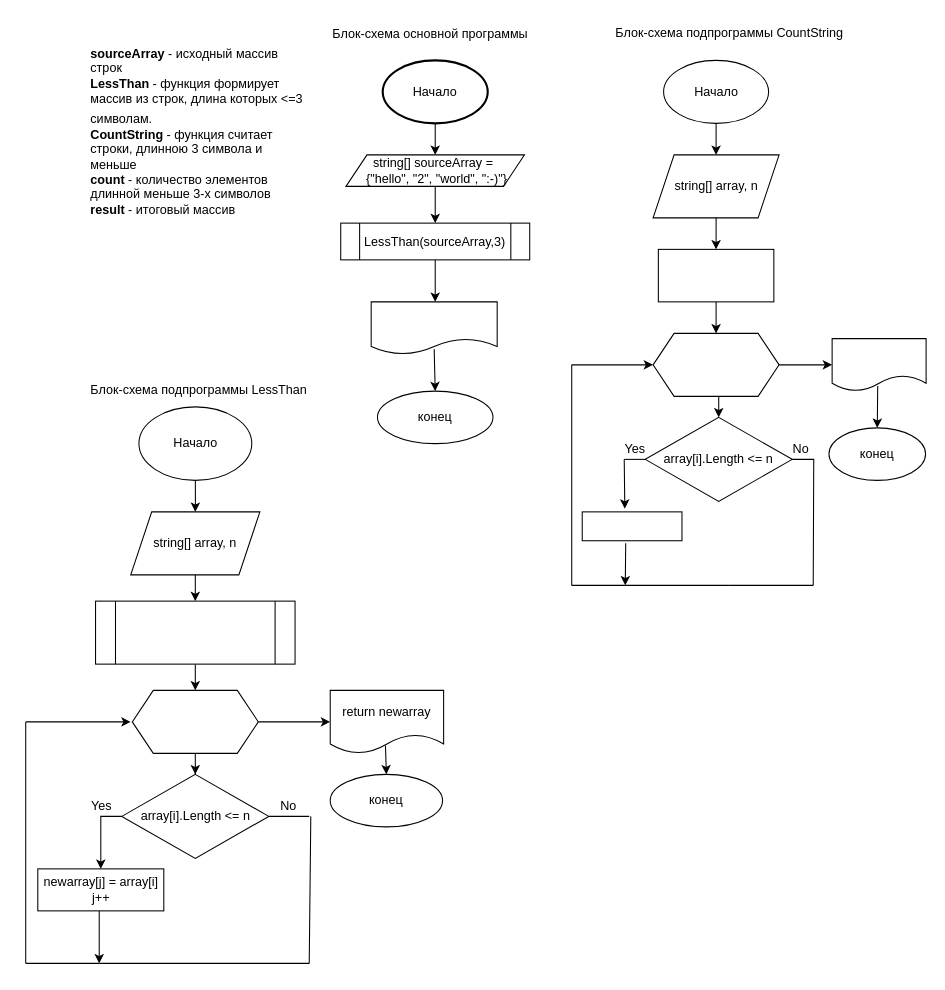
This 945x990 diagram has some shape labels left out. Each missing label, with the box of its shape:
count = 0: (657, 248, 774, 302)
count++: (581, 511, 682, 541)
i=0, array.Length,1: (652, 332, 779, 396)
i=0, j = 0; array.Length,1: (131, 689, 258, 753)
result: (370, 301, 497, 354)
return count: (831, 338, 926, 391)
string[] newarray = new string[CountString(array, n)]: (94, 600, 295, 664)
